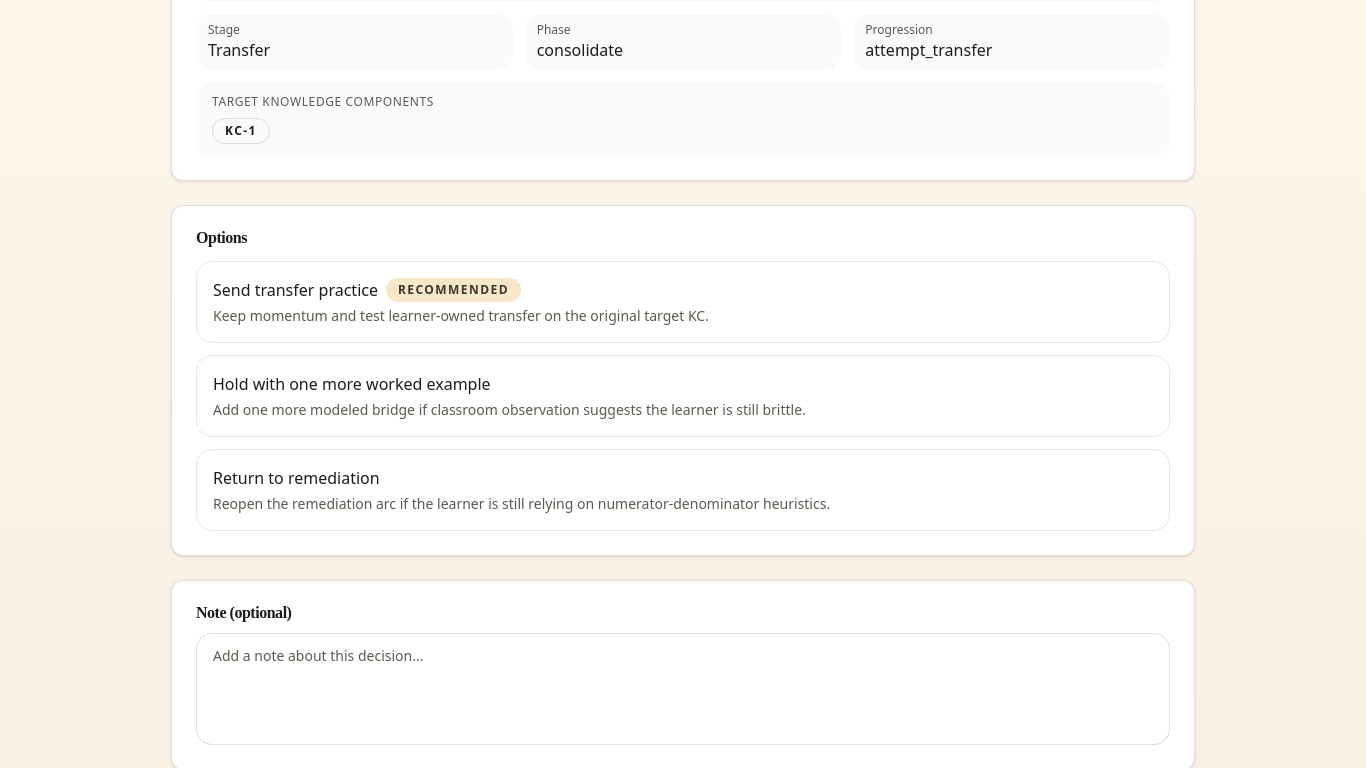
it: InterventionWorkspace › allows selecting an option and shows the select button
(page scrolled)
Click the text "Hold with one more worked example" at coordinates (352, 384), box 213,372 -> 491,396
(page scrolled)
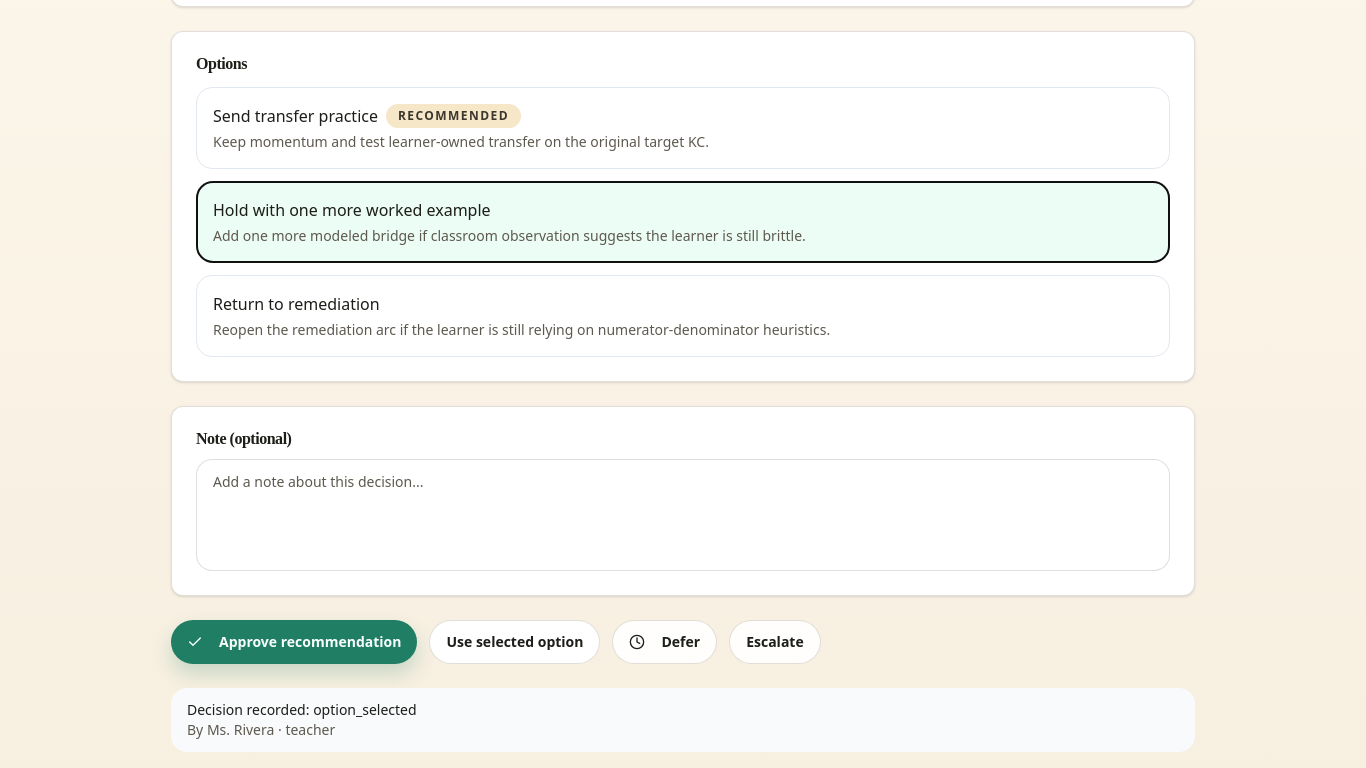
Check: the button "Use selected option" is shown, box 429,620 -> 600,664
